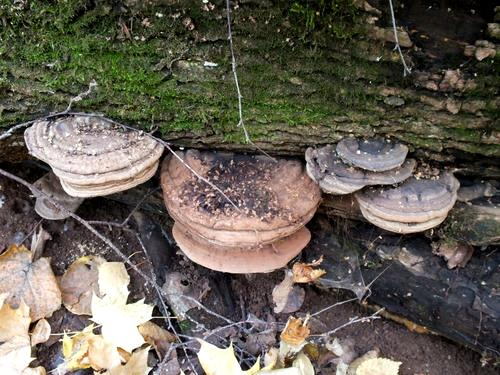Ganoderma - Fruit Body: (165, 140, 305, 275), (310, 136, 465, 232), (25, 119, 162, 201)
